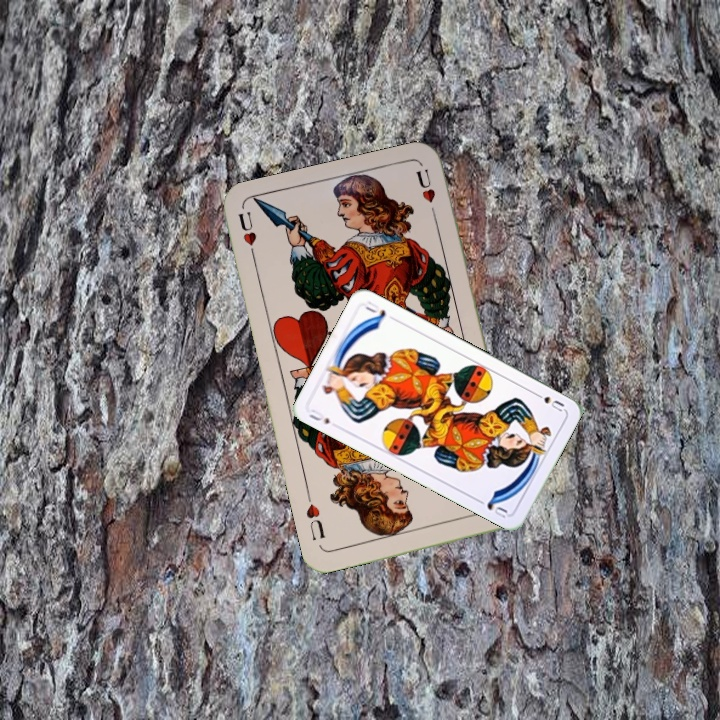HU: (234, 208, 259, 265)
SU: (529, 388, 567, 414), (305, 405, 332, 427)
